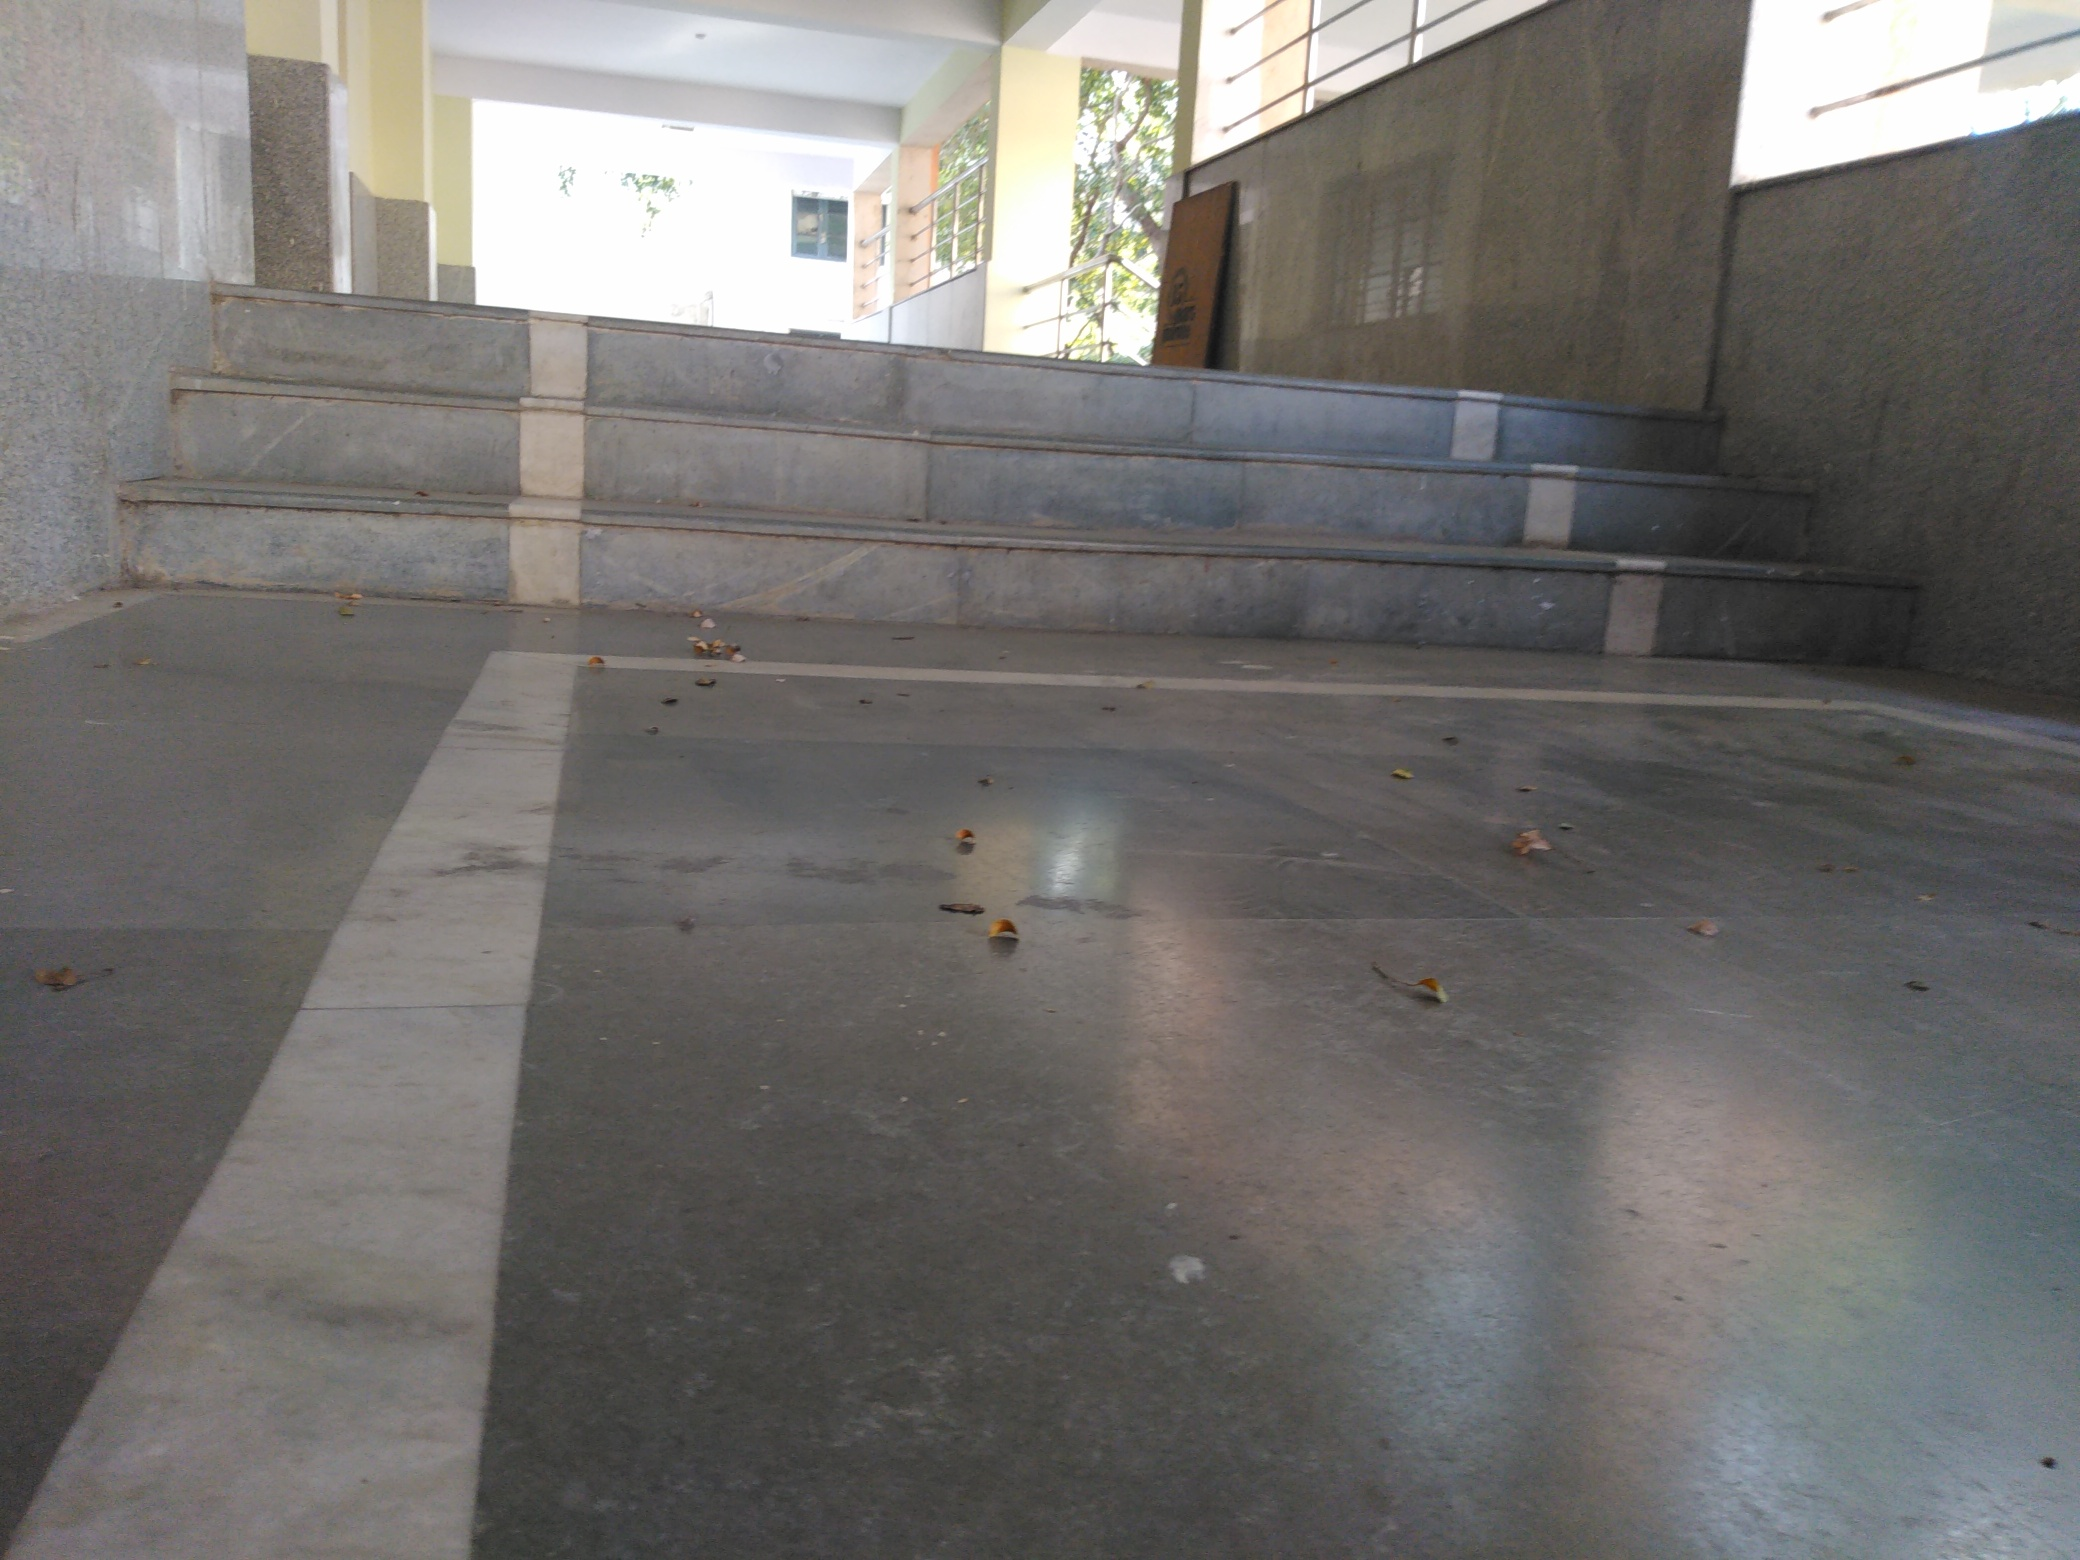stairs_up: (190, 365, 1844, 639)
